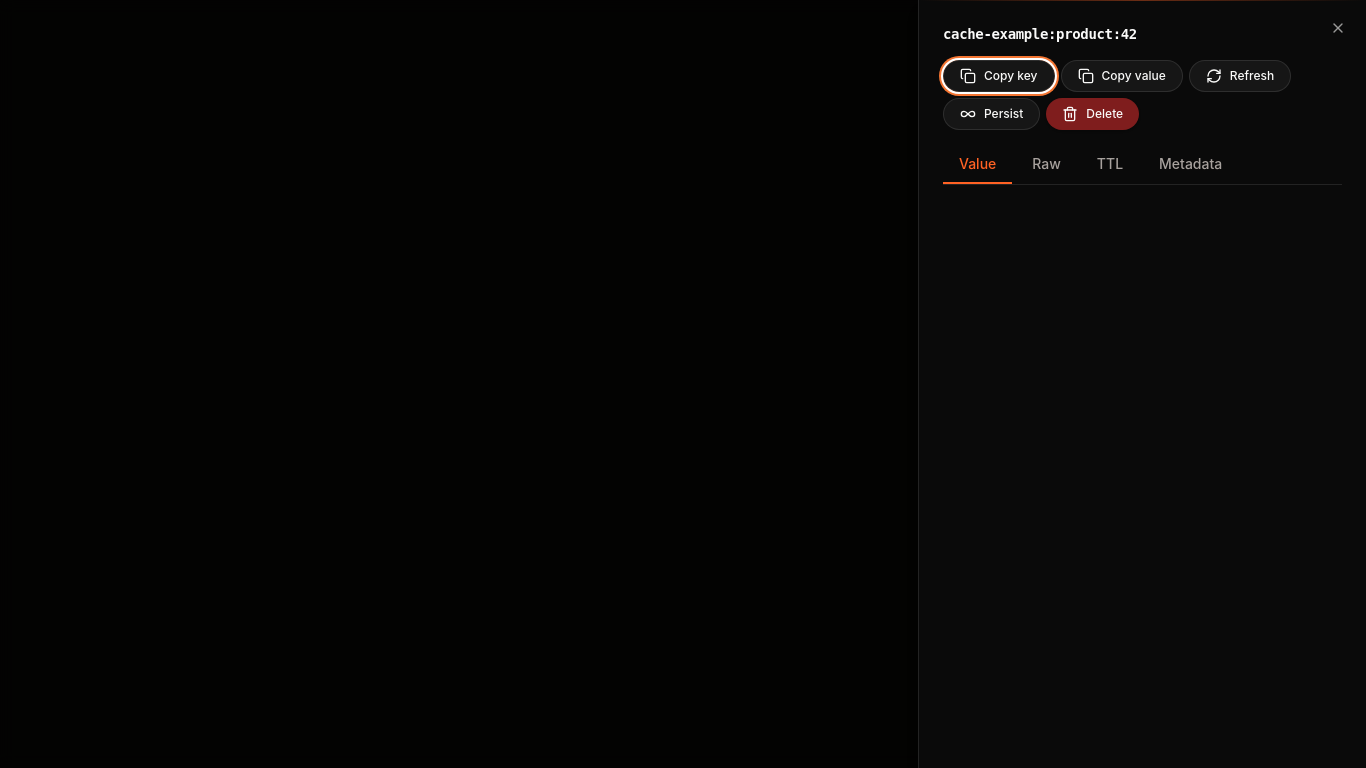
Test: KeyDetailDrawer › renders the four data tabs with the value, raw, TTL and metadata content
Expected: the tab "Value" is shown, [943,146,1012,184]
Click the tab "Raw" at (1047, 165), box [1016,146,1077,184]
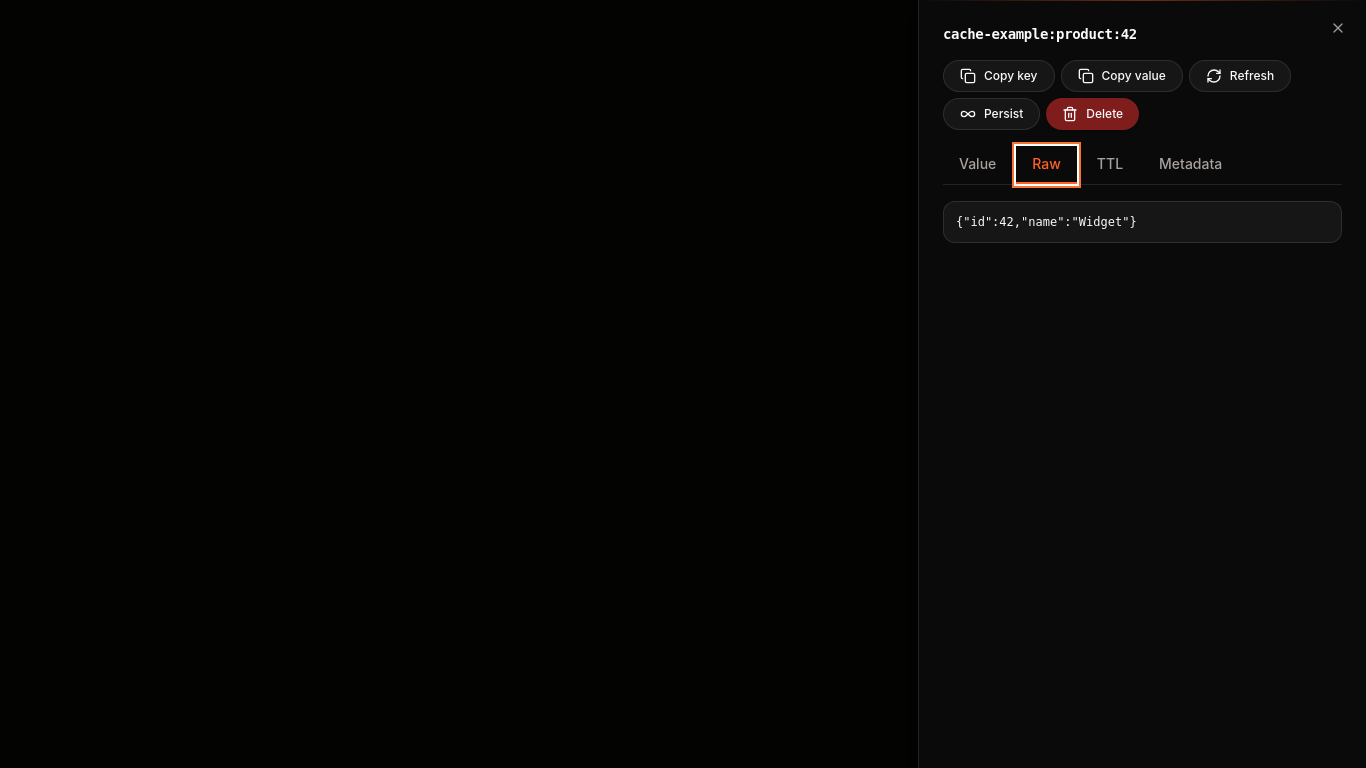
Expected: the text "{\"id\":42,\"name\":\"Widget\"}" is shown, [943,201,1342,243]
Click the tab "Metadata" at (1191, 165), box [1143,146,1238,184]
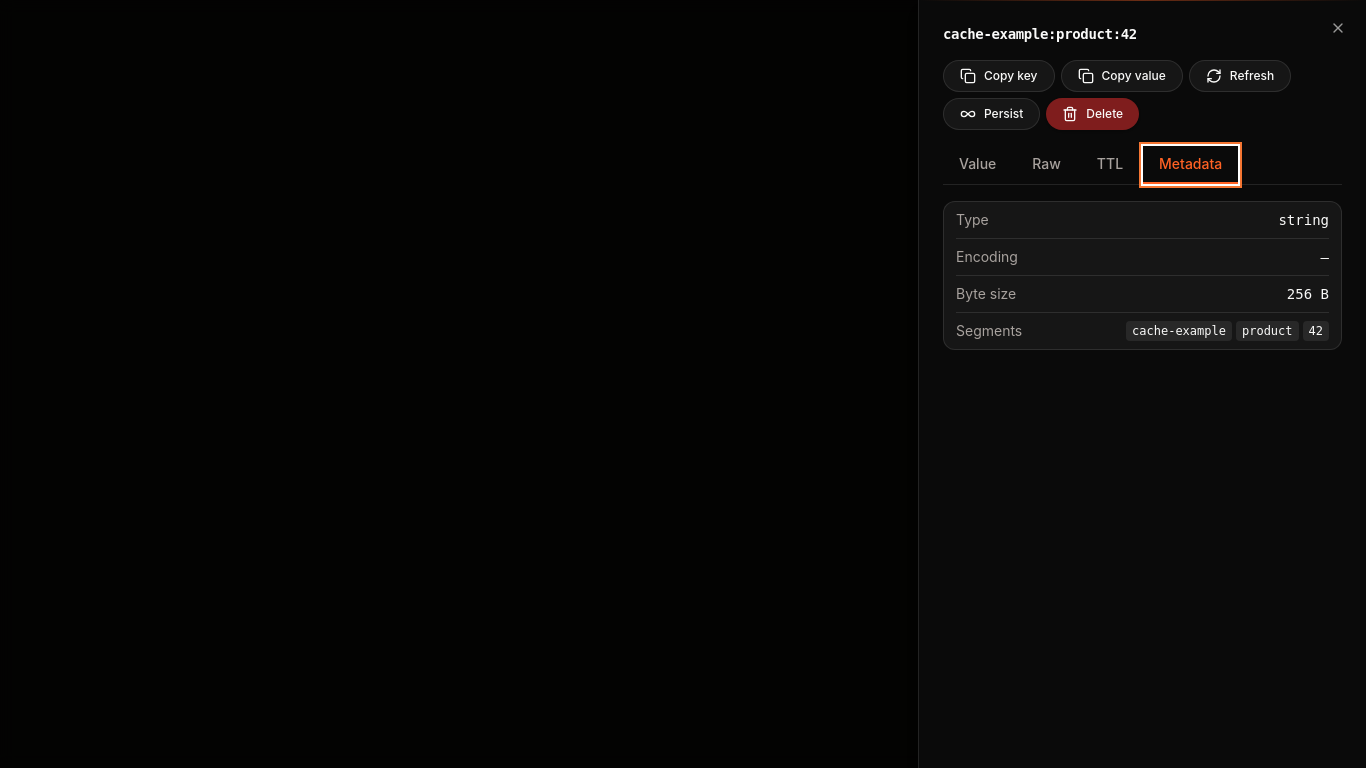
Expected: the text "256 B" is shown, [1287,284,1329,304]
Expected: the text "product" is shown, [1236,321,1299,341]
